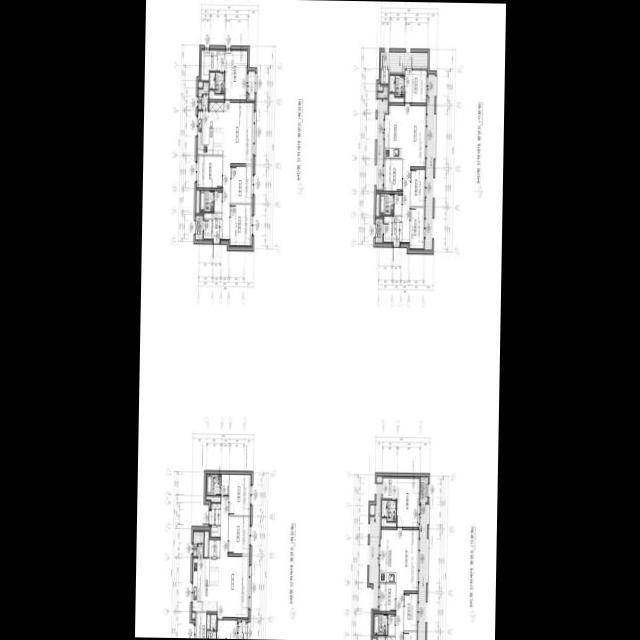background: (134, 0, 506, 640)
space_balconi: (425, 73, 435, 249), (369, 475, 381, 608), (418, 503, 427, 640), (376, 86, 388, 188), (380, 51, 427, 71), (198, 81, 208, 108), (193, 531, 203, 556), (248, 70, 255, 99), (238, 619, 245, 639)
space_bedroom: (217, 50, 247, 99), (396, 477, 419, 526), (230, 203, 252, 244), (229, 474, 250, 514), (230, 165, 252, 202), (228, 516, 250, 553), (404, 69, 427, 102), (410, 207, 424, 247), (410, 169, 425, 205), (403, 593, 417, 629), (217, 619, 237, 639), (403, 631, 417, 640)
space_dressroom: (201, 49, 217, 79), (382, 477, 397, 497)
space_front: (212, 212, 222, 243), (392, 215, 402, 241), (211, 503, 221, 524), (385, 636, 394, 640)
space_kitchen: (192, 557, 220, 610), (197, 101, 224, 154), (384, 104, 404, 157), (379, 529, 397, 582)
space_living_room: (222, 102, 254, 238), (217, 496, 249, 616), (402, 105, 426, 241), (395, 529, 418, 640)
space_other: (197, 155, 222, 187), (383, 159, 402, 190), (379, 583, 395, 610), (195, 612, 206, 638), (203, 212, 212, 238), (383, 215, 391, 241), (208, 539, 219, 556), (394, 193, 402, 214), (214, 190, 222, 211), (221, 473, 229, 494), (388, 613, 395, 634), (381, 517, 396, 526), (389, 93, 403, 101), (209, 90, 223, 98), (204, 531, 208, 556), (381, 68, 388, 82), (211, 526, 220, 536), (206, 496, 220, 501), (196, 189, 199, 212), (376, 193, 379, 215), (207, 614, 210, 628), (370, 504, 374, 514), (378, 83, 382, 90), (378, 636, 384, 640), (198, 81, 202, 86), (192, 612, 195, 617)
space_outdoor_room: (420, 476, 428, 501), (375, 218, 382, 242), (195, 215, 202, 239)
space_toilet: (381, 499, 396, 520), (389, 75, 404, 95), (209, 72, 224, 92), (379, 193, 393, 214), (374, 614, 387, 634), (207, 474, 220, 494), (200, 190, 213, 210), (207, 614, 216, 638)
